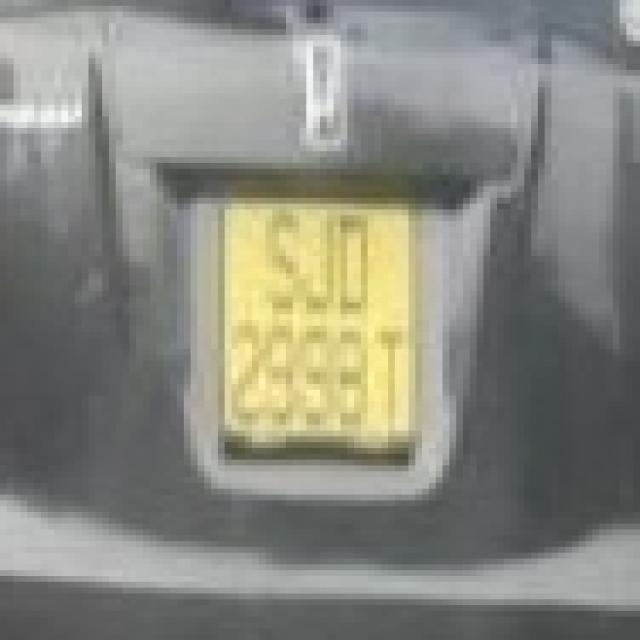2: (228, 320, 268, 424)
8: (333, 328, 372, 430)
9: (296, 326, 331, 436), (266, 321, 300, 428)
D: (338, 214, 372, 314)
J: (302, 210, 338, 314)
S: (258, 210, 302, 312)
T: (372, 328, 411, 431)
